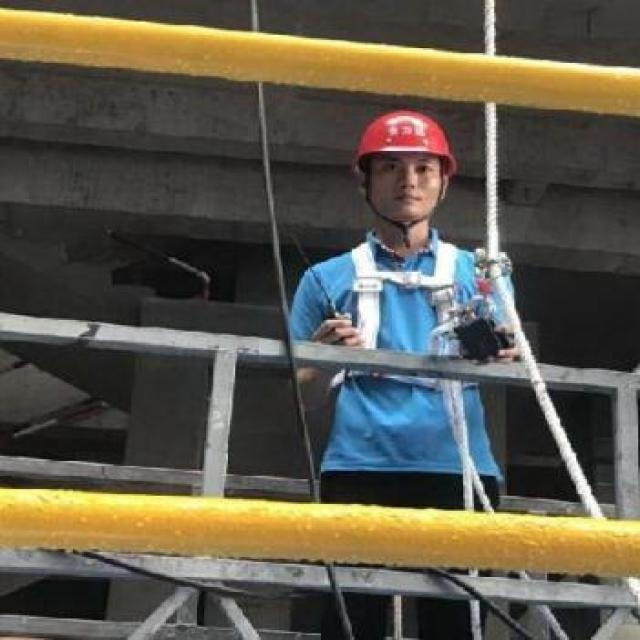Arnes_seguridad: (321, 232, 476, 395)
